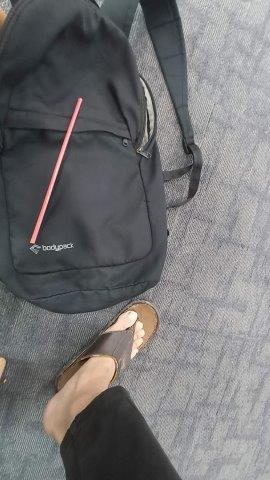sedotan: (30, 98, 83, 243)
